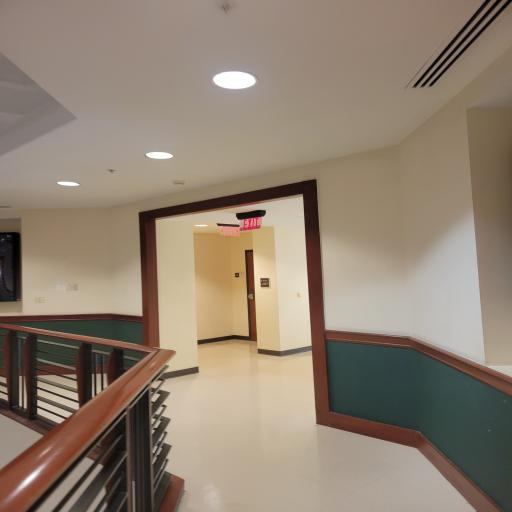exit sign: (233, 209, 278, 233), (216, 222, 244, 238)
